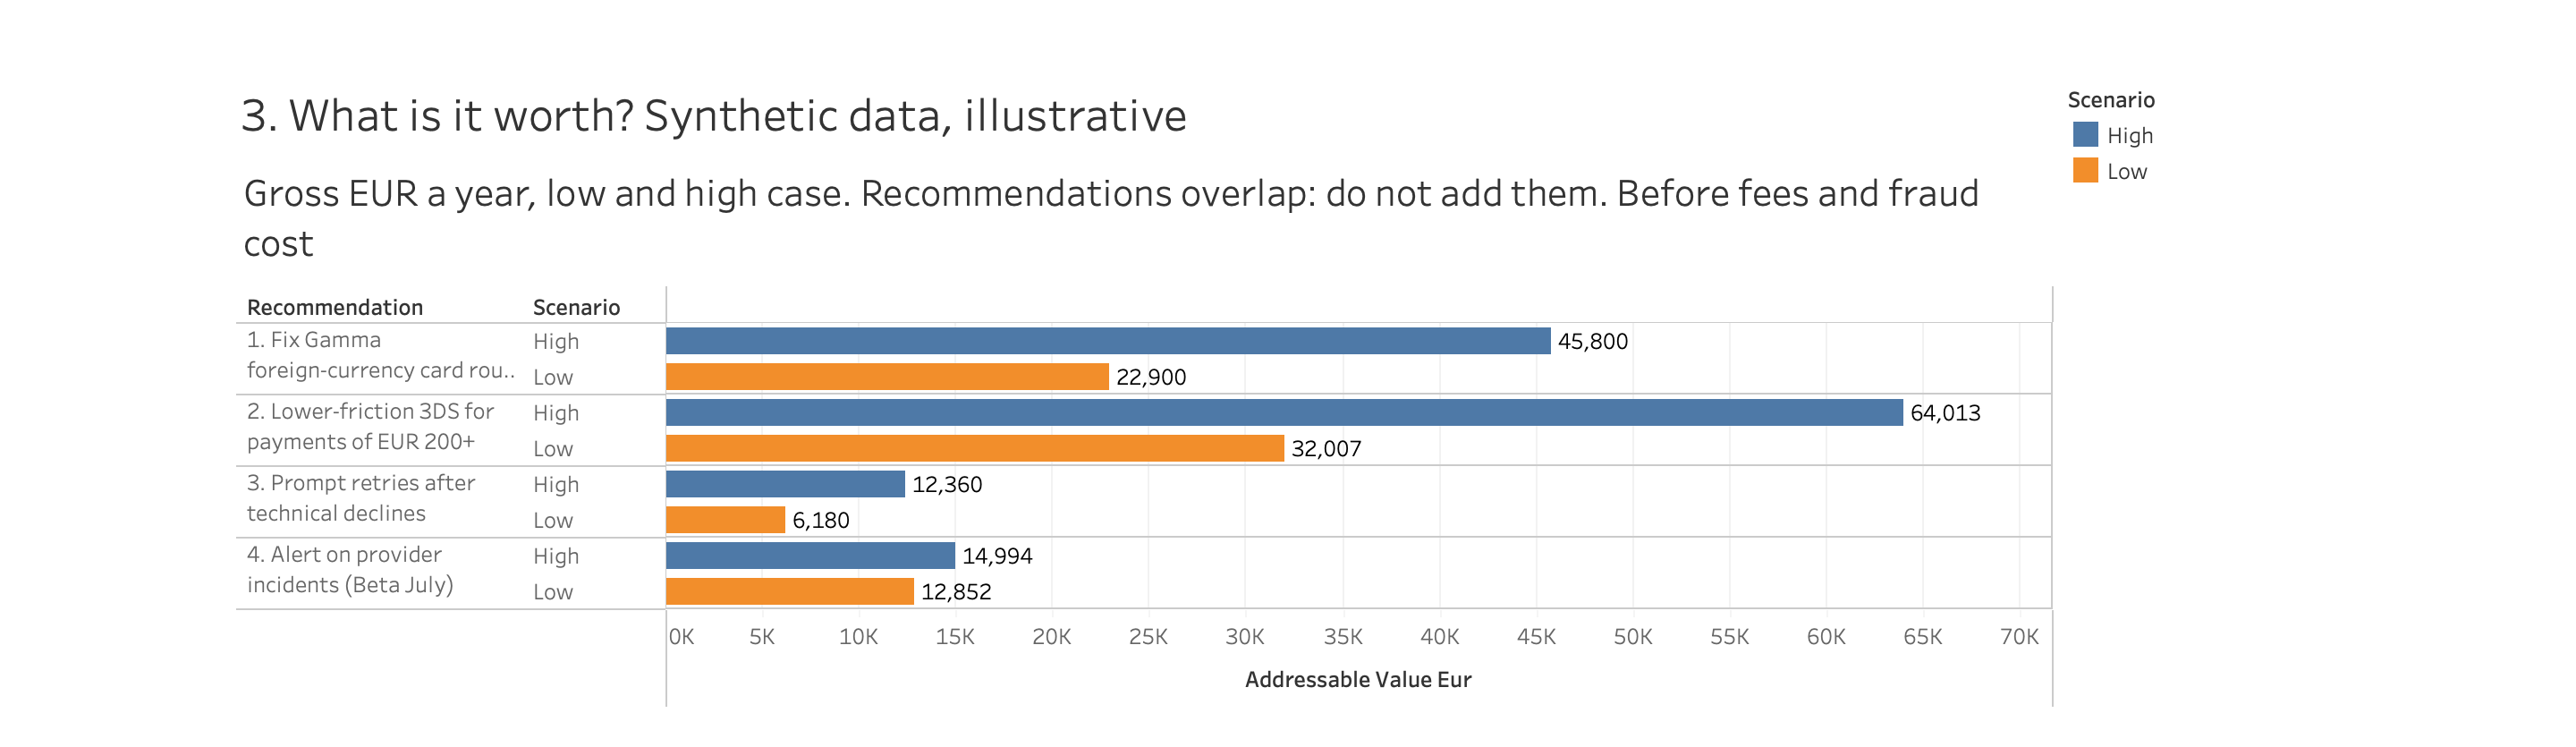

What the dashboard file says about the page in this screenshot:
{"tool":"tableau","page":{"name":"3. What is it worth? Synthetic data, illustrative","canvas":[1200,800],"ordinal":2},"visuals":[{"type":"title","box":[8,8,1024,42]},{"type":"legend","title":"Gross EUR a year, low and high case. Recommendations overlap: do not add them. Before fees and fraud cost","param":"[federated.08tk2db1iawvf81aidu3s02pbepb].[none:scenario:nk]","box":[1032,8,160,66]},{"type":"worksheet","title":"Gross EUR a year, low and high case. Recommendations overlap: do not add them. Before fees and fraud cost","mark":"Automatic","rows":["recommendation","scenario"],"cols":["addressable_value_eur"],"box":[8,50,1024,287]}]}

Visuals, with their boxes on the page's 1200x800 design canvas (x1, y1, x2, y2). These are canvas units, not pixel positions in the 2576x747 screenshot, which may show the page scaled, cropped or inside an application window:
title: box(8, 8, 1032, 50)
"Gross EUR a year, low and high case. Recommendations overlap: do not add them. Before fees and fraud cost" legend: box(1032, 8, 1192, 74)
"Gross EUR a year, low and high case. Recommendations overlap: do not add them. Before fees and fraud cost" worksheet: box(8, 50, 1032, 337)
